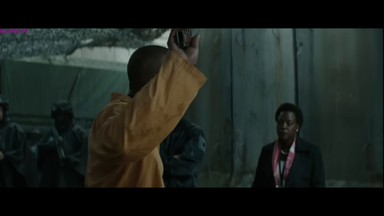firearm: (48, 124, 70, 163), (175, 27, 195, 49)
